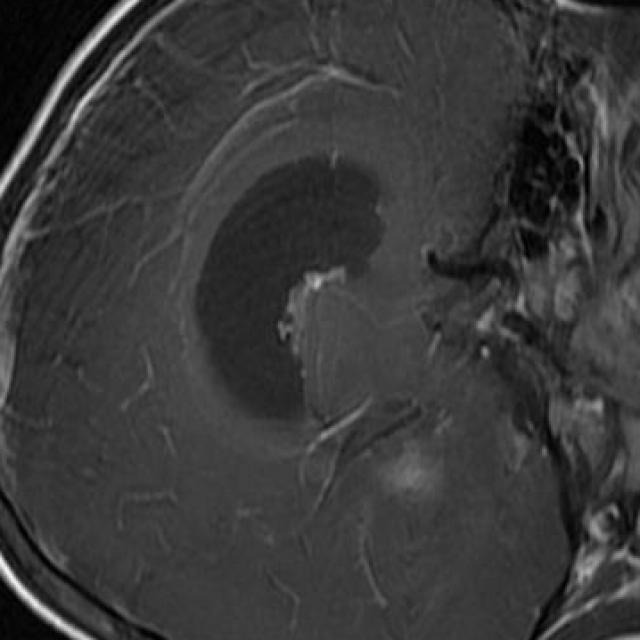glioma: (196, 152, 389, 421)
